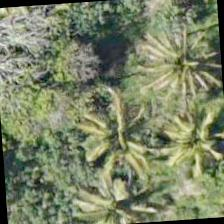Kelapa_Sawit: (45, 106, 141, 202), (128, 112, 223, 209), (130, 24, 224, 120)
